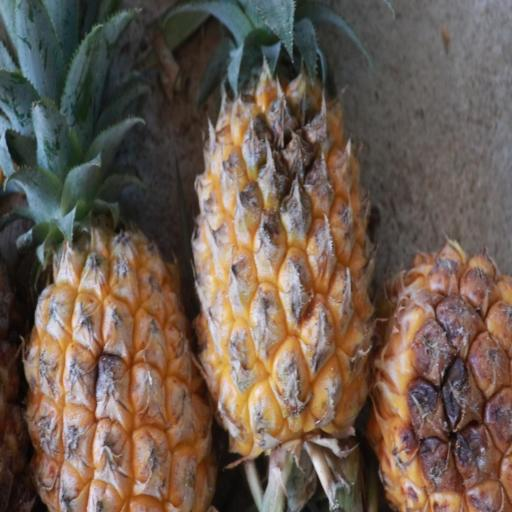Pineapple - v8 v1: (24, 0, 220, 512), (188, 11, 378, 464), (366, 235, 512, 512)
